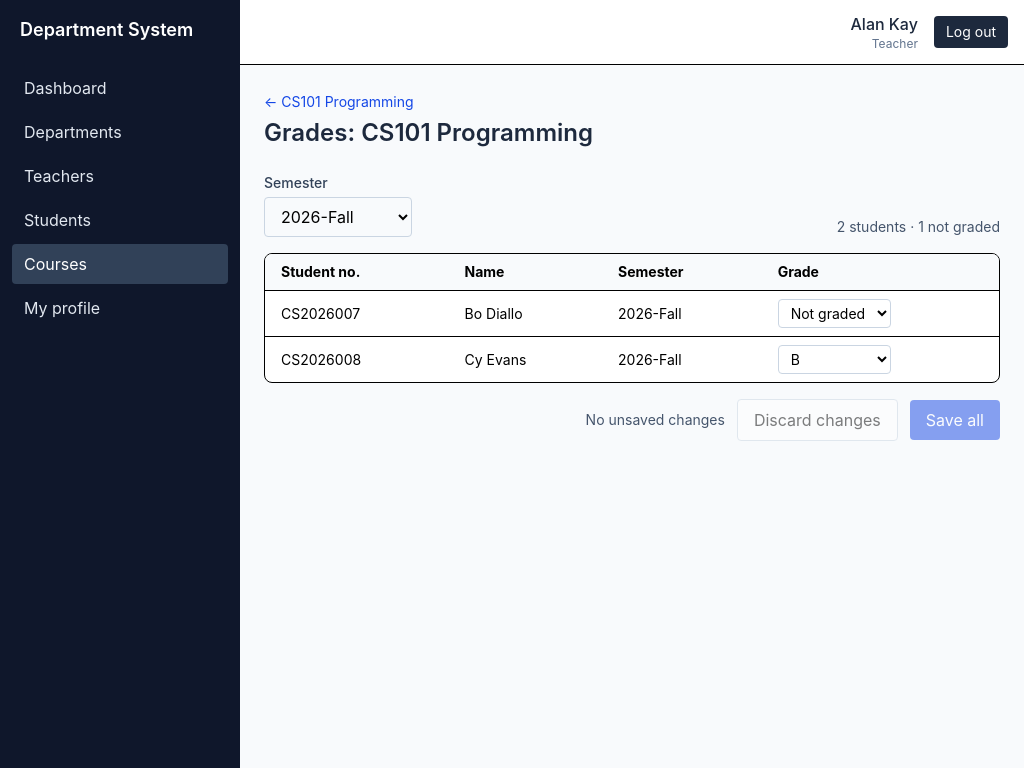
Scenario: leaving with unsaved changes › asks the browser to confirm a reload or tab close only while changes are unsaved
The image size is (1024, 768).
Expected: the heading "Grades: CS101 Programming" is shown, 264,118 -> 593,147
Select "D" in the dropdown named "Grade for Bo Diallo (2026-Fall)". click: (834, 314)
box: 778,299 -> 891,328
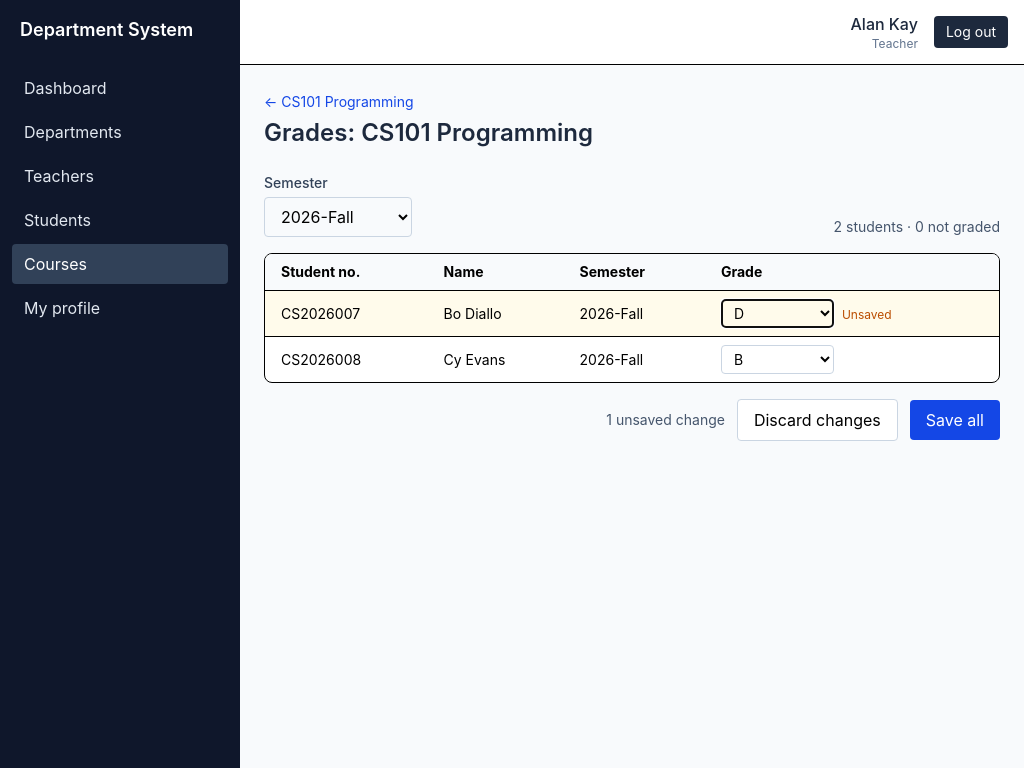
Click the button "Save all". click: click(955, 420)
box: 910,400 -> 1000,440
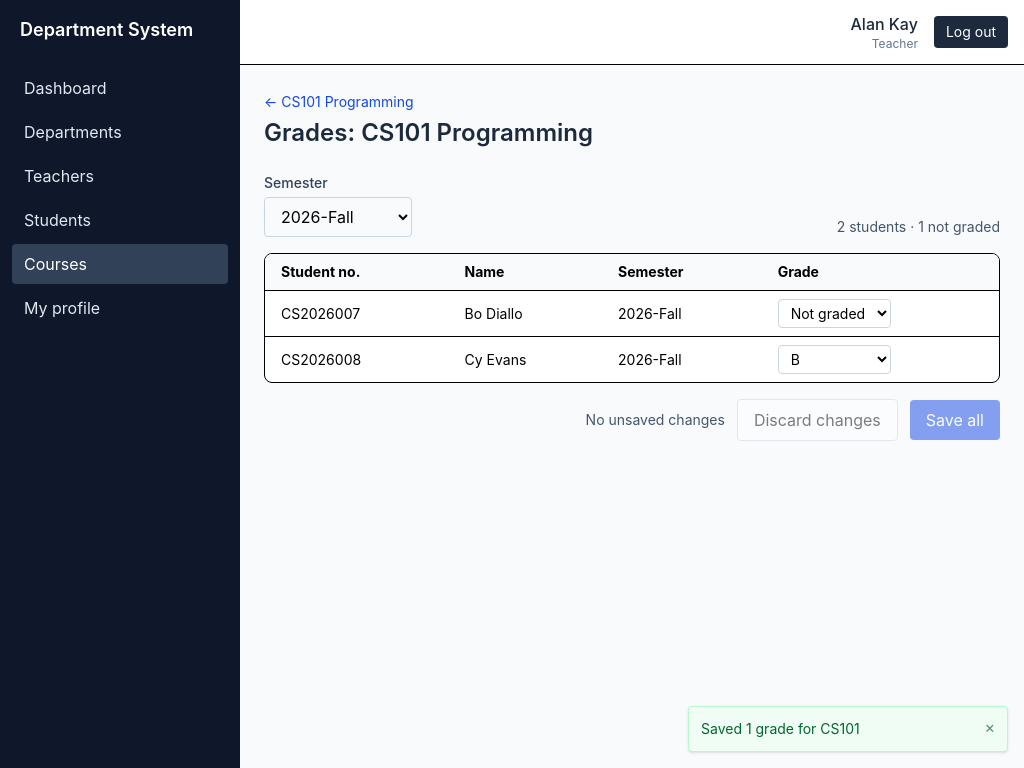
Now the message "Saved 1 grade for CS101 ×" is shown, box 688,706 -> 1008,752
